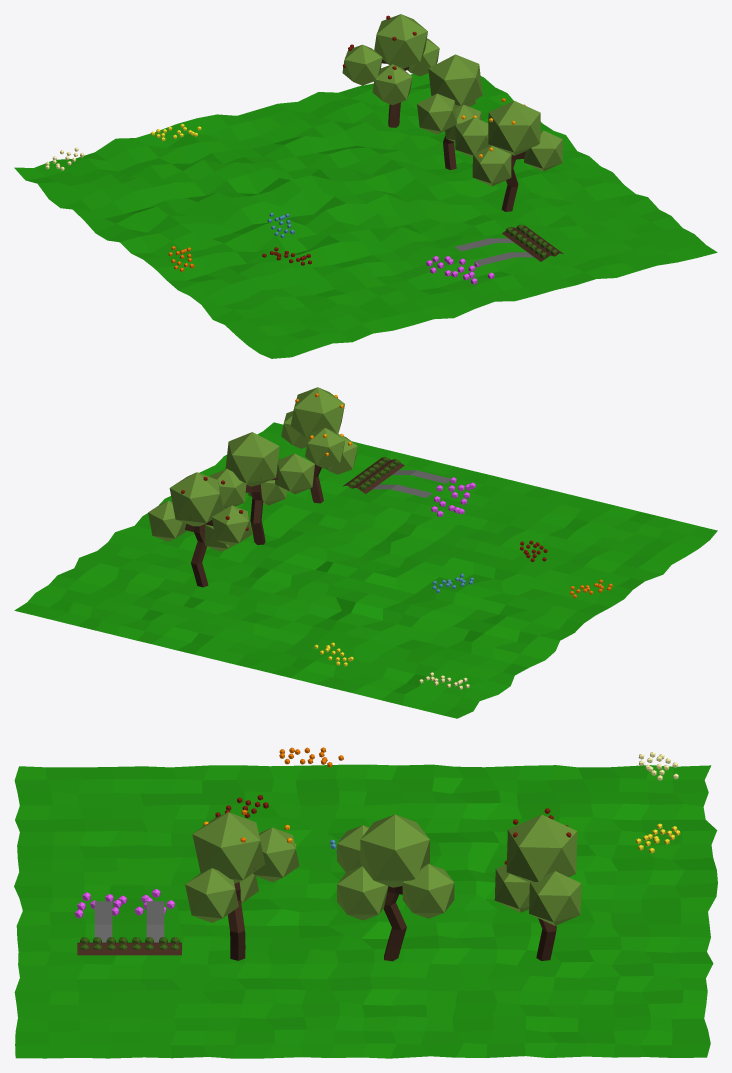
Rendered from gardenScene.glb.
3 renders of one model, top to bottom at view 1: azimuth 30°, elevation 25°; view 2: azimuth 150°, elevation 25°; view 3: azimuth 270°, elevation 25°, orthographic. The views are drawn at different scales.
Parts seen in each view (by area): view 1: PoolStick.001, Icosphere.001, Icosphere, Icosphere.002; view 2: PoolStick.001, Icosphere.001, Icosphere.002, Icosphere; view 3: PoolStick.001, Icosphere.001, Icosphere, Icosphere.002.
Part boxes in pixels (left/top/right/bottom): PoolStick.001: left=14, top=73, right=717, bottom=358; Icosphere.001: left=45, top=14, right=562, bottom=284; Icosphere: left=474, top=239, right=563, bottom=265; Icosphere.002: left=454, top=224, right=543, bottom=251; PoolStick.001: left=14, top=422, right=717, bottom=718; Icosphere.001: left=148, top=387, right=612, bottom=689; Icosphere.002: left=343, top=471, right=432, bottom=497; Icosphere: left=362, top=457, right=451, bottom=483; PoolStick.001: left=14, top=764, right=717, bottom=1058; Icosphere.001: left=74, top=747, right=680, bottom=961; Icosphere: left=77, top=901, right=129, bottom=955; Icosphere.002: left=129, top=901, right=181, bottom=955.
Bounding box in the file's own units: 139 × 38.51 × 141.
Materials: 2 (2 with a texture image).
